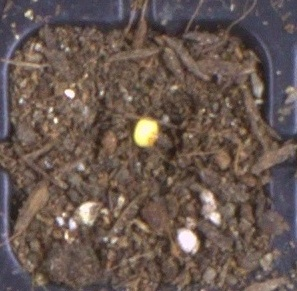chilli seed: (132, 118, 159, 148)
